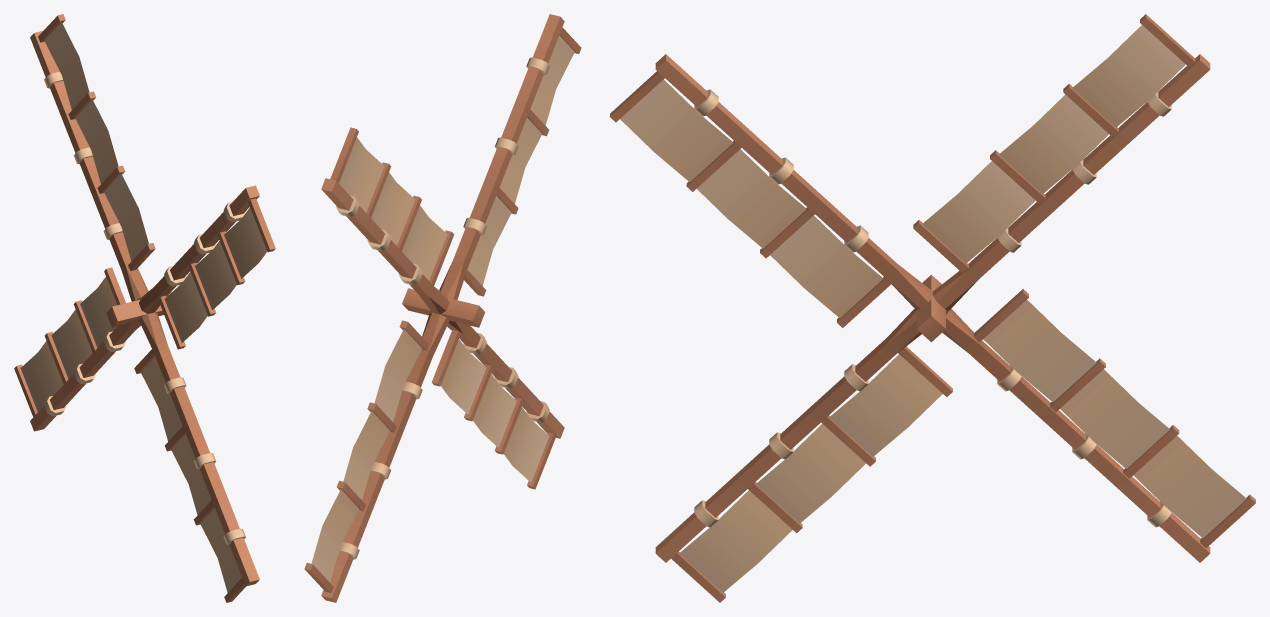
File: windmill.glb
The picture shows the model from 3 angles, left to right: view 1: azimuth 30°, elevation 25°; view 2: azimuth 150°, elevation 25°; view 3: azimuth 270°, elevation 25°; orthographic projection. The views are drawn at different scales.
Parts seen in each view (by area): view 1: windmill; view 2: windmill; view 3: windmill.
Part boxes in pixels (box(x1,y1,x2,y2)): windmill: box(14, 14, 275, 602); windmill: box(304, 14, 581, 602); windmill: box(610, 14, 1255, 602).
Bounding box in the file's own units: 0.471 × 3.11 × 3.11.
Materials: 1 (1 with a texture image).
